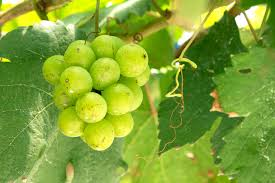grapes: (41, 33, 154, 152)
